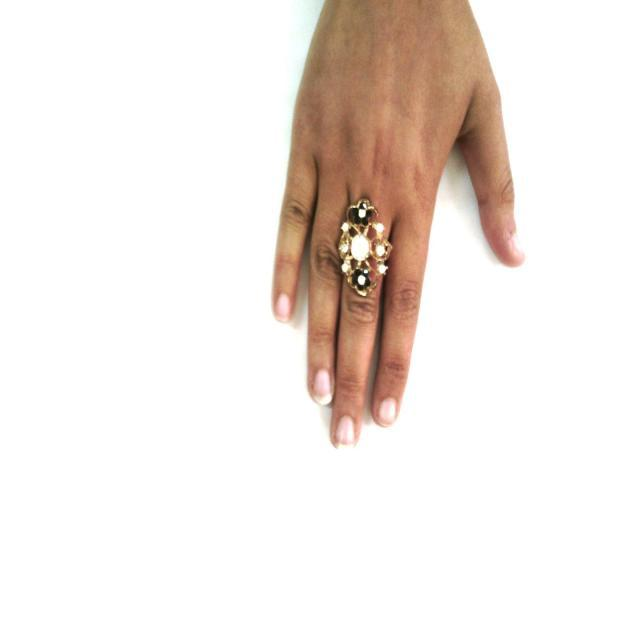Fingernail: (313, 369, 331, 403), (336, 415, 355, 446), (378, 398, 396, 425), (276, 294, 291, 321)
